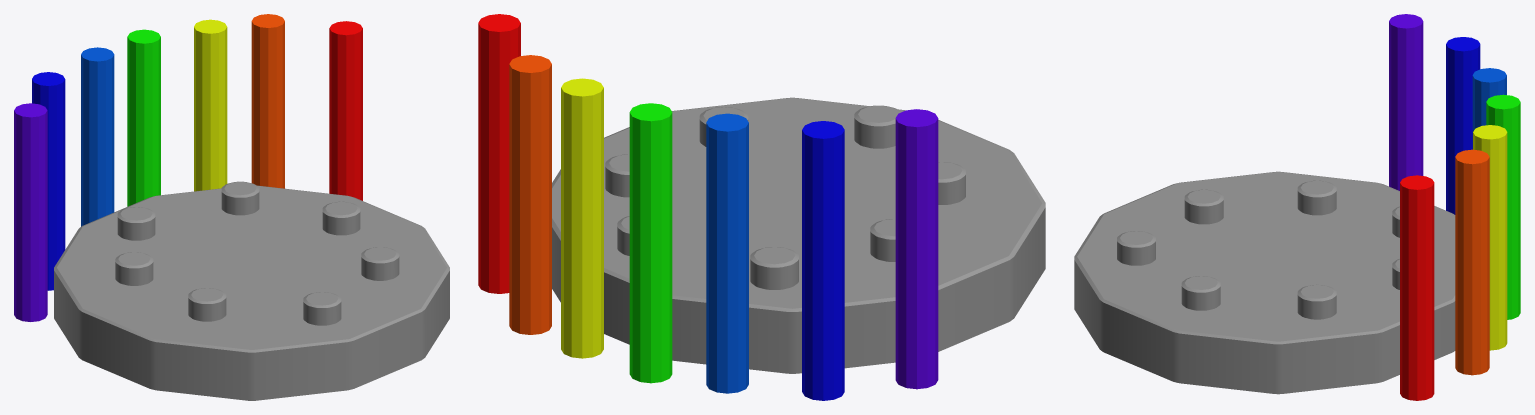
The model's file is rainbow generator separate objects.FBX.
3 views of the same model, side by side, from view 1: azimuth 30°, elevation 25°; view 2: azimuth 150°, elevation 25°; view 3: azimuth 270°, elevation 25° (orthographic). The views are drawn at different scales.
Parts seen in each view (by area): view 1: rainbow generator, Purple_Tank, Red_Tank, Orange_Tank, Aqua_Tank, Green_Tank, Yellow Tank, Blue_Tank; view 2: rainbow generator, Green_Tank, Purple_Tank, Yellow Tank, Aqua_Tank, Orange_Tank, Blue_Tank, Red_Tank; view 3: rainbow generator, Orange_Tank, Red_Tank, Purple_Tank, Yellow Tank, Blue_Tank, Green_Tank, Aqua_Tank.
Boxes of the visible parts, bbox=[...] form: rainbow generator: bbox=[54, 181, 449, 400]; Purple_Tank: bbox=[14, 103, 47, 321]; Red_Tank: bbox=[329, 21, 362, 200]; Orange_Tank: bbox=[251, 14, 284, 188]; Aqua_Tank: bbox=[81, 47, 114, 226]; Green_Tank: bbox=[127, 29, 160, 206]; Yellow Tank: bbox=[194, 19, 227, 191]; Blue_Tank: bbox=[32, 72, 65, 290]; rainbow generator: bbox=[552, 97, 1045, 373]; Green_Tank: bbox=[629, 103, 672, 383]; Purple_Tank: bbox=[895, 109, 938, 389]; Yellow Tank: bbox=[561, 78, 603, 358]; Aqua_Tank: bbox=[706, 113, 748, 393]; Orange_Tank: bbox=[509, 55, 551, 334]; Blue_Tank: bbox=[802, 121, 844, 400]; Red_Tank: bbox=[478, 14, 520, 293]; rainbow generator: bbox=[1074, 171, 1455, 394]; Orange_Tank: bbox=[1455, 149, 1489, 375]; Red_Tank: bbox=[1400, 175, 1434, 400]; Purple_Tank: bbox=[1389, 14, 1423, 190]; Yellow Tank: bbox=[1473, 125, 1507, 350]; Blue_Tank: bbox=[1446, 37, 1480, 214]; Green_Tank: bbox=[1486, 94, 1520, 319]; Aqua_Tank: bbox=[1472, 68, 1506, 149].
Size of the model in its own units: 218 by 122 by 234.
